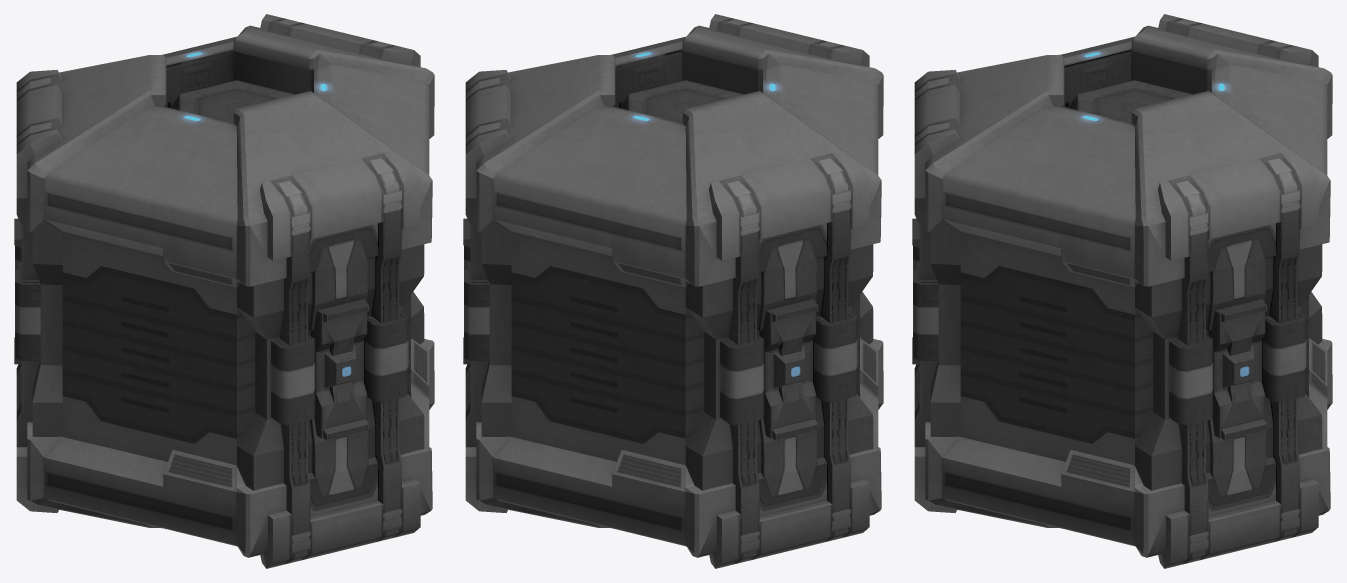
Rendered from 28774_lite.glb.
3 views of the same model, side by side, from view 1: azimuth 30°, elevation 25°; view 2: azimuth 150°, elevation 25°; view 3: azimuth 270°, elevation 25° (orthographic).
Parts seen in each view (by area): view 1: ship; view 2: ship; view 3: ship.
Part boxes in pixels (x1=…): ship: x1=14, y1=14, x2=434, y2=568; ship: x1=463, y1=14, x2=883, y2=568; ship: x1=912, y1=14, x2=1332, y2=568.
Size of the model in its own units: 0.4543 by 0.4688 by 0.4083.
Materials: 1 (1 with a texture image).
